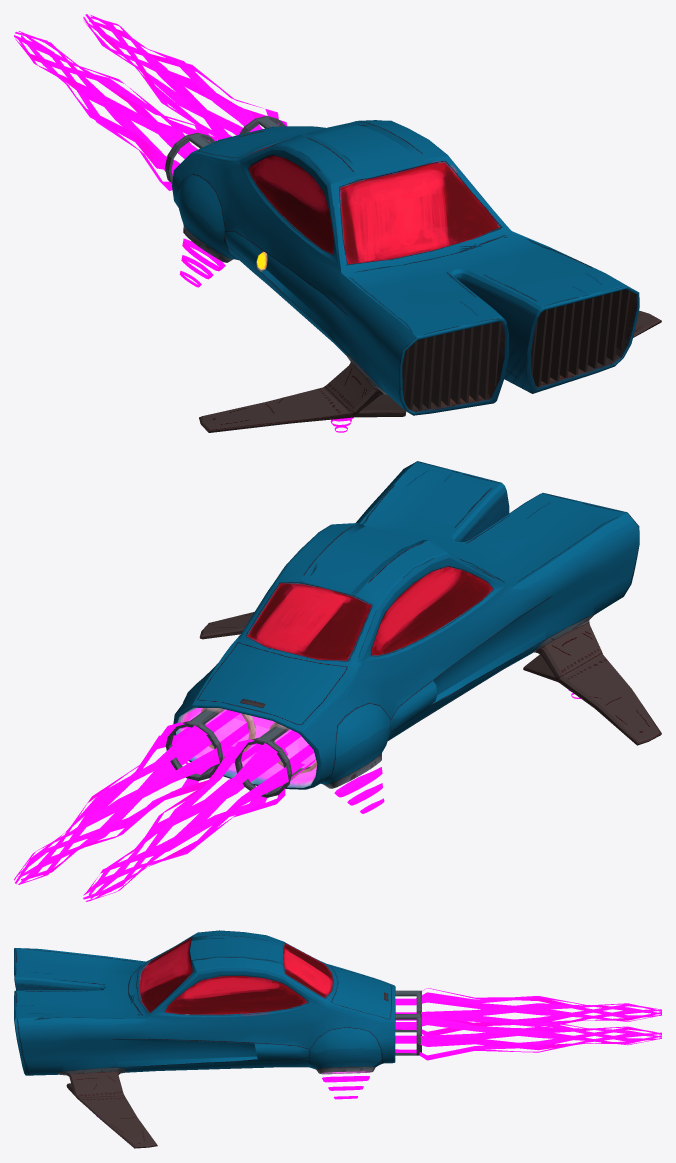
Rendered from flying_car.glb.
3 views of the same model, one above another, from view 1: azimuth 30°, elevation 25°; view 2: azimuth 150°, elevation 25°; view 3: azimuth 270°, elevation 25° (orthographic). The views are drawn at different scales.
Parts seen in each view (by area): view 1: flying_car; view 2: flying_car; view 3: flying_car.
Part boxes in pixels (bbox=[...]): flying_car: bbox=[14, 14, 661, 432]; flying_car: bbox=[14, 461, 661, 901]; flying_car: bbox=[14, 930, 661, 1148].
Size of the model in its own units: 4.5 by 1.8 by 8.09.
1 material, 1 textured.
